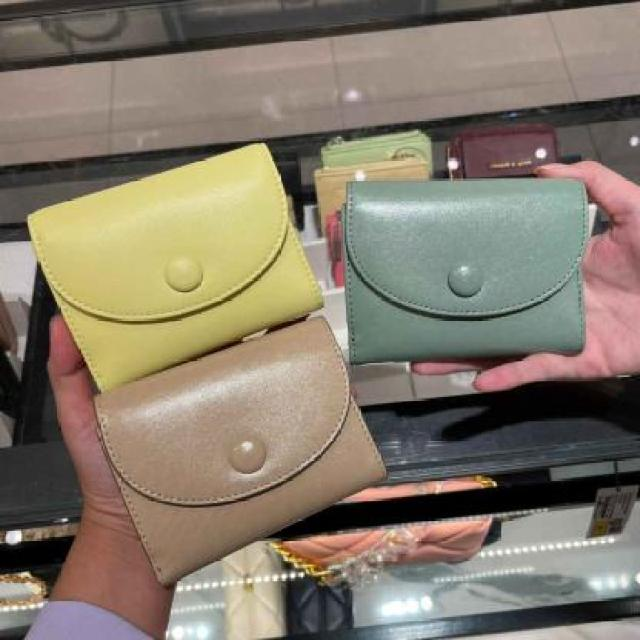Bag: (0, 123, 352, 403), (91, 309, 403, 594), (322, 151, 589, 374)
